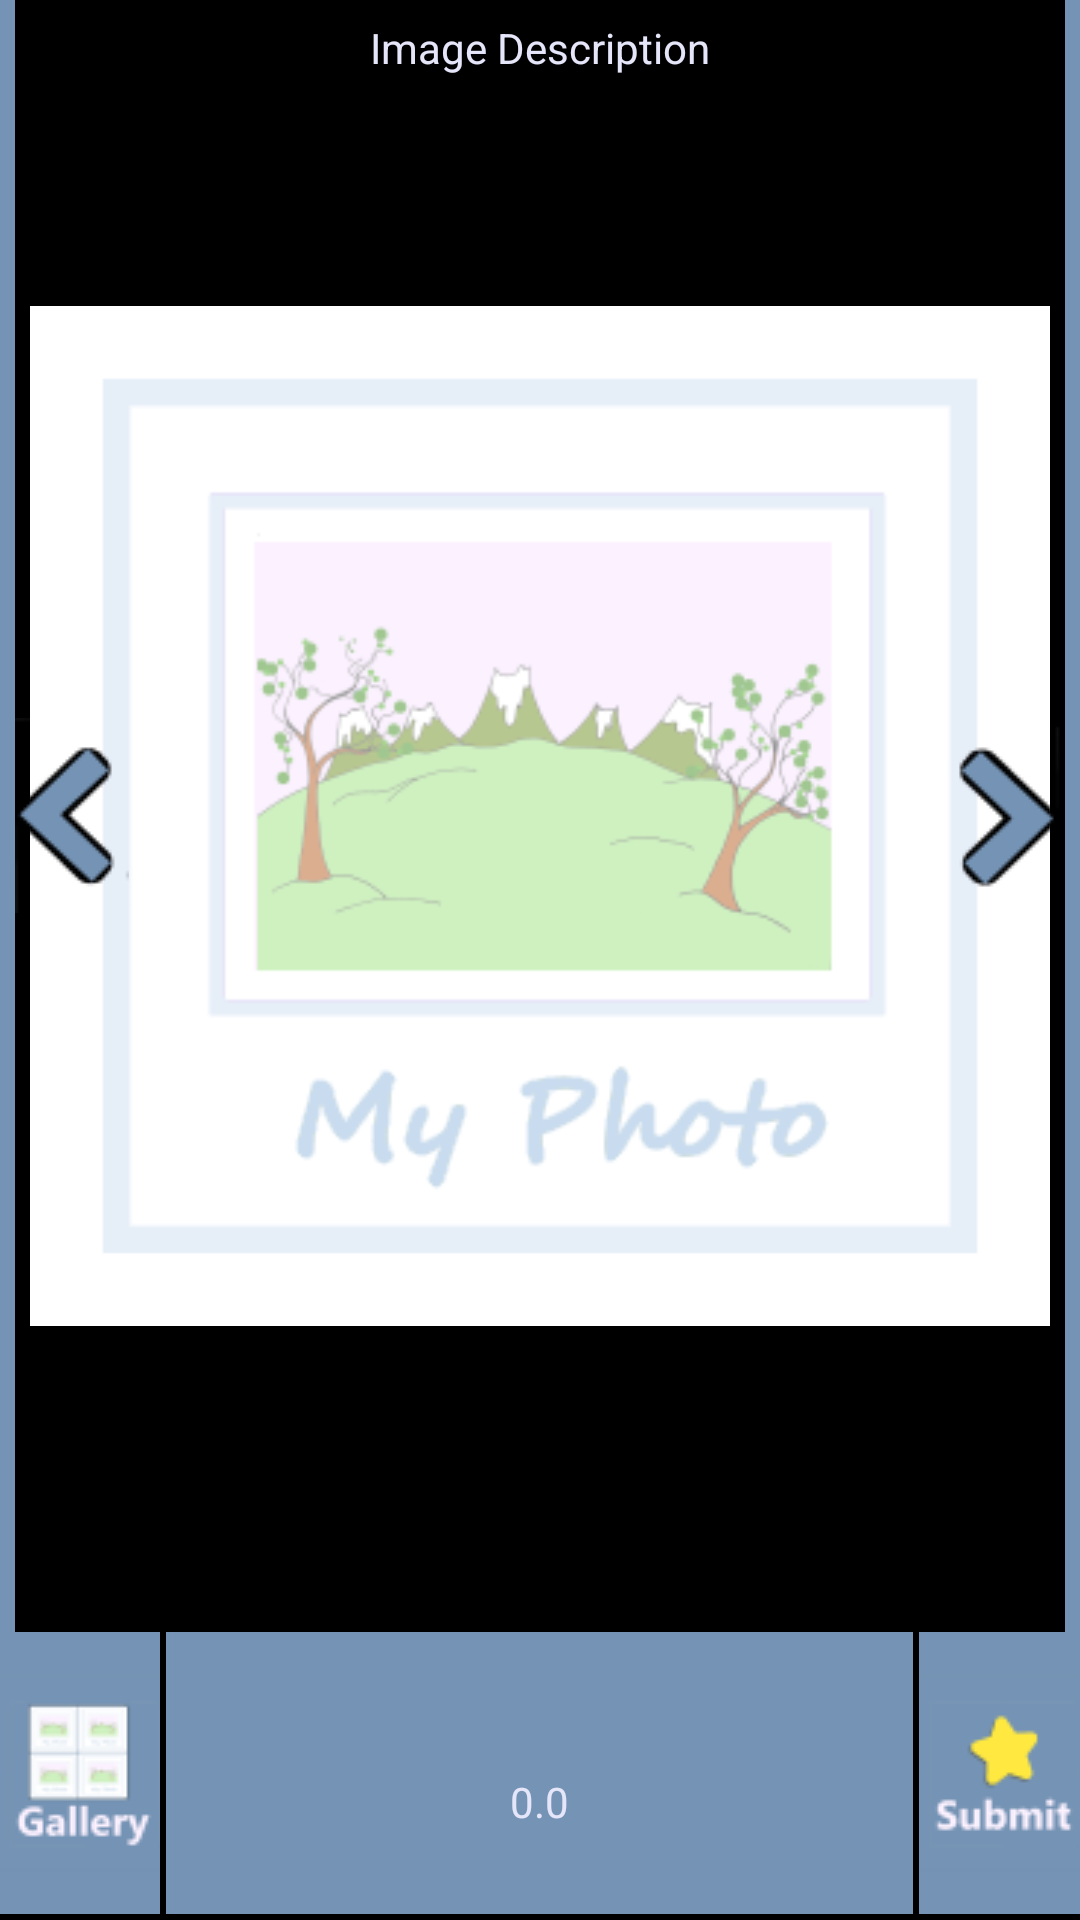

Where icons sit on this 1080 x 1920 app screen, as rect(x1, y1, x2, y2):
nextphoto: rect(959, 718, 1065, 913)
prevphoto: rect(15, 718, 129, 913)
rating: rect(937, 1715, 1071, 1831)
